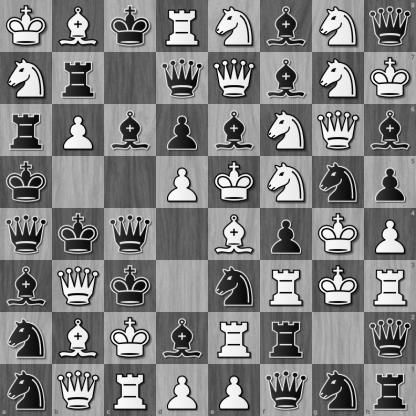B: (53, 1, 104, 52), (53, 313, 104, 364), (209, 209, 260, 260)
K: (364, 52, 416, 104), (1, 1, 52, 52), (105, 313, 156, 364), (209, 157, 260, 208), (313, 209, 364, 260), (313, 261, 364, 312)
N: (1, 53, 52, 104), (209, 1, 260, 52), (261, 105, 312, 156), (261, 157, 312, 208), (313, 1, 364, 52), (313, 53, 364, 104)
P: (156, 364, 209, 416), (209, 364, 260, 416), (364, 209, 416, 260), (53, 105, 104, 156), (157, 157, 208, 208)
Q: (52, 364, 104, 416), (53, 261, 104, 312), (209, 53, 260, 104), (313, 105, 364, 156)
R: (104, 364, 156, 416), (364, 260, 416, 312), (157, 1, 208, 52), (209, 313, 260, 364), (261, 261, 312, 312)
b: (364, 104, 416, 156), (1, 261, 52, 312), (105, 105, 156, 156), (157, 313, 208, 364), (209, 105, 260, 156), (261, 1, 312, 52), (261, 53, 312, 104)
board: (0, 0, 415, 415)
k: (1, 157, 52, 208), (53, 209, 104, 260), (105, 1, 156, 52), (105, 261, 156, 312)
n: (0, 364, 52, 416), (312, 364, 364, 416), (1, 313, 52, 364), (209, 261, 260, 312), (313, 157, 364, 208)
p: (364, 156, 416, 209), (157, 105, 208, 156), (261, 209, 312, 260)
q: (260, 364, 312, 416), (364, 0, 416, 52), (364, 312, 416, 364), (1, 209, 52, 260), (105, 209, 156, 260), (157, 53, 208, 104)
r: (364, 364, 416, 416), (1, 105, 52, 156), (53, 53, 104, 104), (261, 313, 312, 364)
